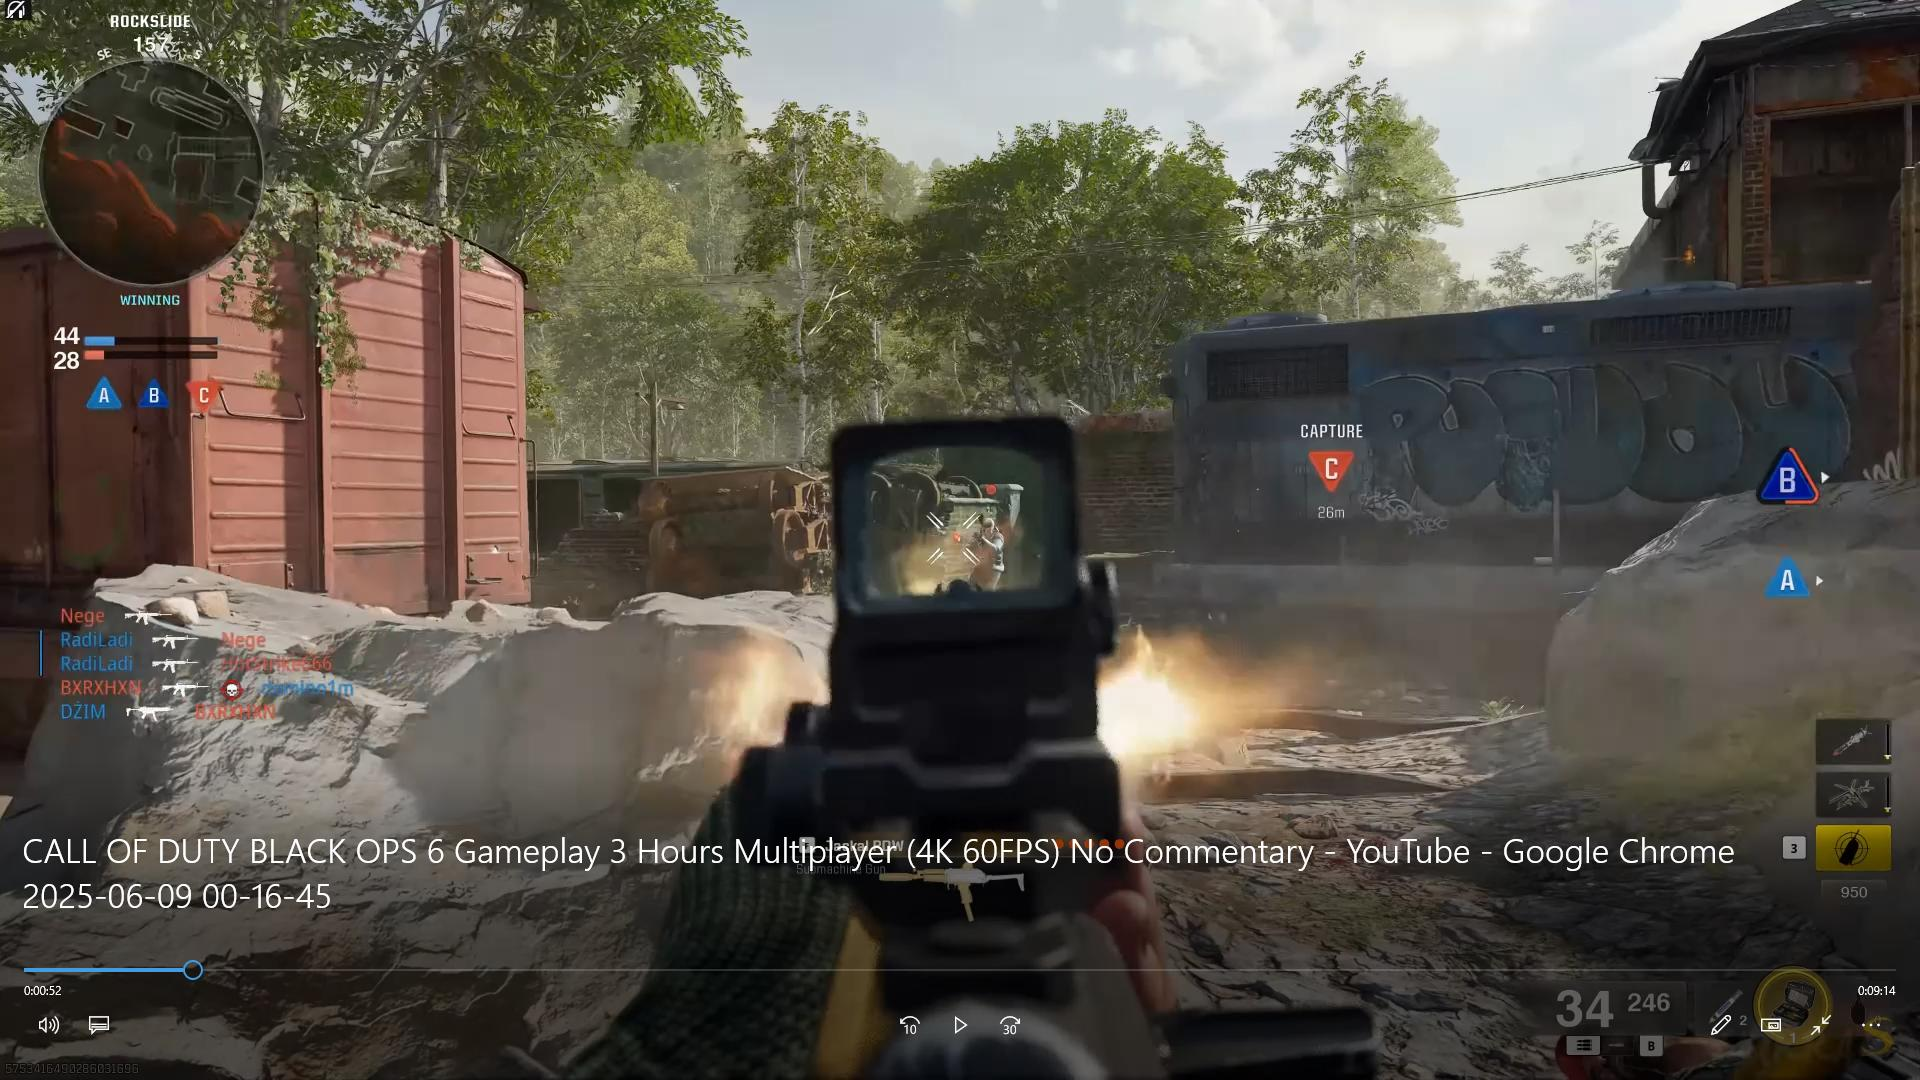Enemy: (964, 513, 1015, 587)
